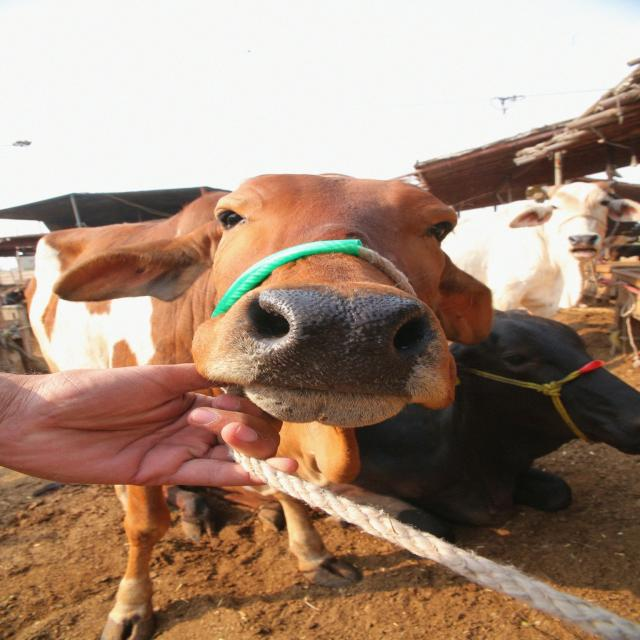muzzles: (238, 281, 443, 412)
